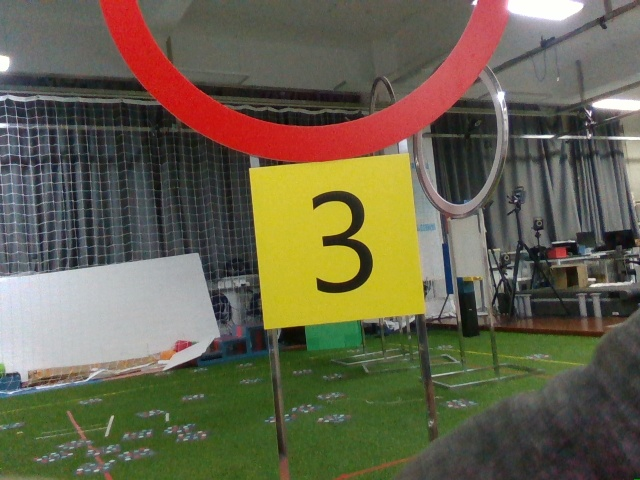target: (259, 162, 411, 316)
